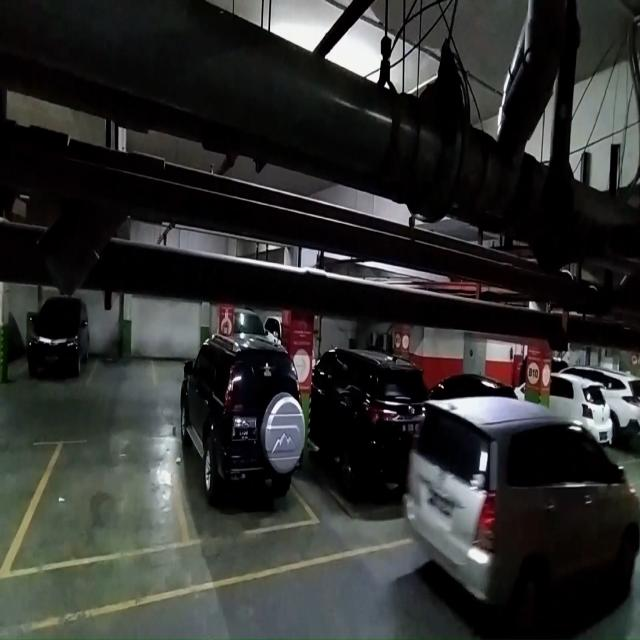empty: (4, 443, 184, 573)
occupied: (175, 368, 308, 538)
